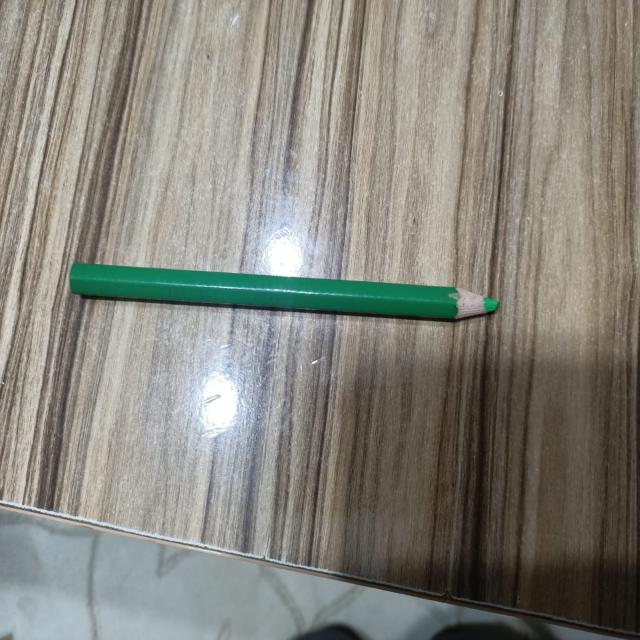pencil: (58, 237, 516, 341)
